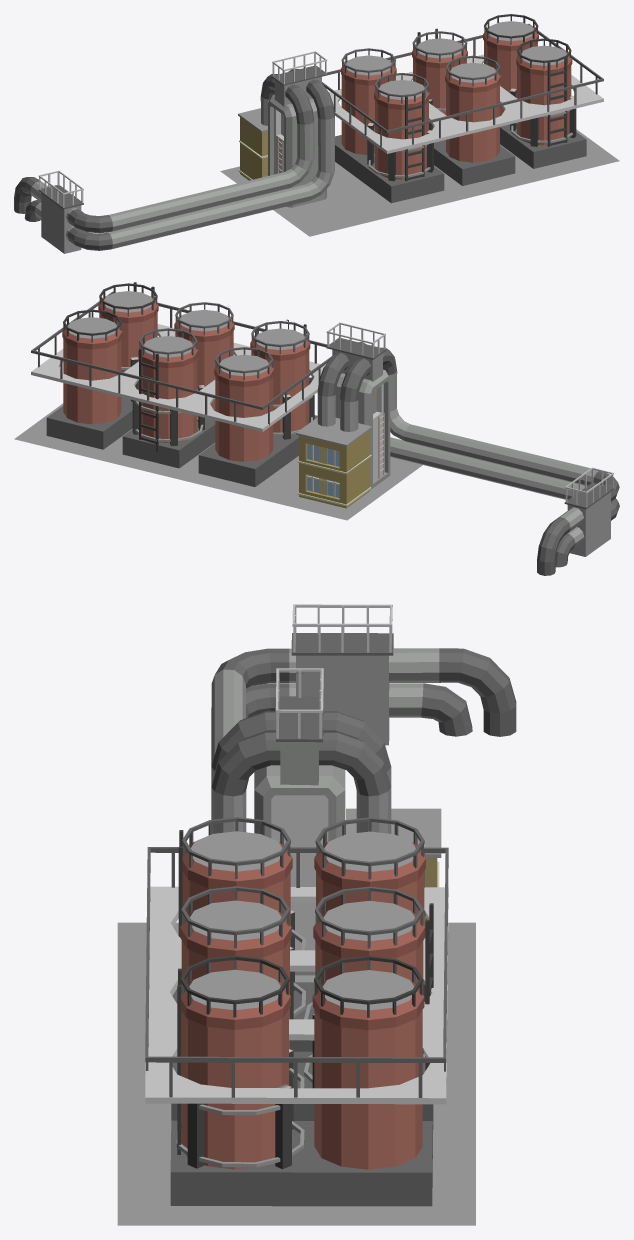
File: wasted_water.glb
3 renders of one model, top to bottom at view 1: azimuth 30°, elevation 25°; view 2: azimuth 150°, elevation 25°; view 3: azimuth 270°, elevation 25°, orthographic. The views are drawn at different scales.
Parts seen in each view (by area): view 1: tubes_007, house_008, tile_for_home_1x1_007 (1), tile_for_home_1x1_007 (4), tile_for_home_1x1_007 (9), tile_for_home_1x1_007 (7); view 2: tubes_007, house_008, tile_for_home_1x1_007, tile_for_home_1x1_007 (3), tile_for_home_1x1_007 (8), tile_for_home_1x1_007 (6), tile_for_home_1x1_007 (1); view 3: tubes_007, house_008, tile_for_home_1x1_007 (9), tile_for_home_1x1_007 (8), tile_for_home_1x1_007 (7), tile_for_home_1x1_007 (6), tile_for_home_1x1_007 (1), tile_for_home_1x1_007, tile_for_home_1x1_007 (3), tile_for_home_1x1_007 (4).
Boxes of the visible parts, x1,y1,x2,y2 form: tubes_007: [322, 14, 603, 203]; house_008: [14, 51, 334, 253]; tile_for_home_1x1_007 (1): [273, 185, 386, 236]; tile_for_home_1x1_007 (4): [343, 180, 464, 217]; tile_for_home_1x1_007 (9): [502, 129, 619, 179]; tile_for_home_1x1_007 (7): [434, 160, 541, 198]; tubes_007: [31, 282, 332, 486]; house_008: [296, 322, 619, 575]; tile_for_home_1x1_007: [264, 475, 394, 520]; tile_for_home_1x1_007 (3): [181, 460, 298, 499]; tile_for_home_1x1_007 (8): [14, 404, 132, 459]; tile_for_home_1x1_007 (6): [97, 441, 214, 479]; tile_for_home_1x1_007 (1): [382, 437, 422, 485]; tubes_007: [145, 817, 448, 1206]; house_008: [211, 604, 516, 975]; tile_for_home_1x1_007 (9): [117, 1150, 296, 1225]; tile_for_home_1x1_007 (8): [296, 1150, 475, 1225]; tile_for_home_1x1_007 (7): [117, 1074, 171, 1149]; tile_for_home_1x1_007 (6): [433, 1074, 475, 1149]; tile_for_home_1x1_007 (1): [117, 922, 296, 998]; tile_for_home_1x1_007: [296, 922, 475, 998]; tile_for_home_1x1_007 (3): [446, 998, 475, 1073]; tile_for_home_1x1_007 (4): [117, 998, 145, 1073].
Size of the model in its own units: 52.88 by 13.3 by 17.81.
Materials: 1 (1 with a texture image).
